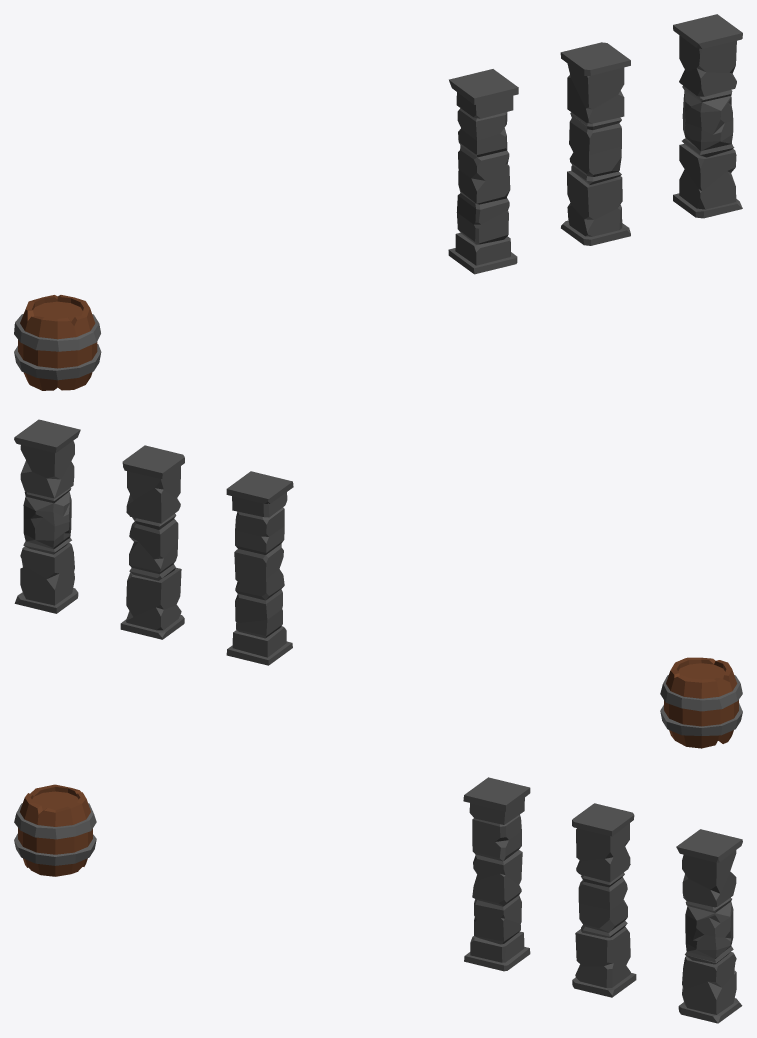
Rendered from bochka.glb.
The picture shows the model from 3 angles, top to bottom: view 1: azimuth 30°, elevation 25°; view 2: azimuth 150°, elevation 25°; view 3: azimuth 330°, elevation 25°; orthographic projection. The views are drawn at different scales.
Parts seen in each view (by area): view 1: pillar2, pillar3, pillar1, barrel; view 2: pillar3, pillar2, pillar1, barrel; view 3: pillar3, pillar2, pillar1, barrel.
Part boxes in pixels (x1=…): pillar2: x1=560, y1=42, x2=630, y2=245; pillar3: x1=673, y1=14, x2=742, y2=218; pillar1: x1=448, y1=69, x2=518, y2=274; barrel: x1=14, y1=295, x2=101, y2=390; pillar3: x1=14, y1=419, x2=80, y2=613; pillar2: x1=120, y1=445, x2=184, y2=639; pillar1: x1=226, y1=471, x2=293, y2=665; barrel: x1=660, y1=657, x2=742, y2=748; pillar3: x1=676, y1=829, x2=742, y2=1023; pillar2: x1=572, y1=803, x2=636, y2=997; pillar1: x1=463, y1=777, x2=530, y2=971; barrel: x1=14, y1=784, x2=96, y2=876.
Size of the model in its own units: 13.05 by 3 by 1.72.
